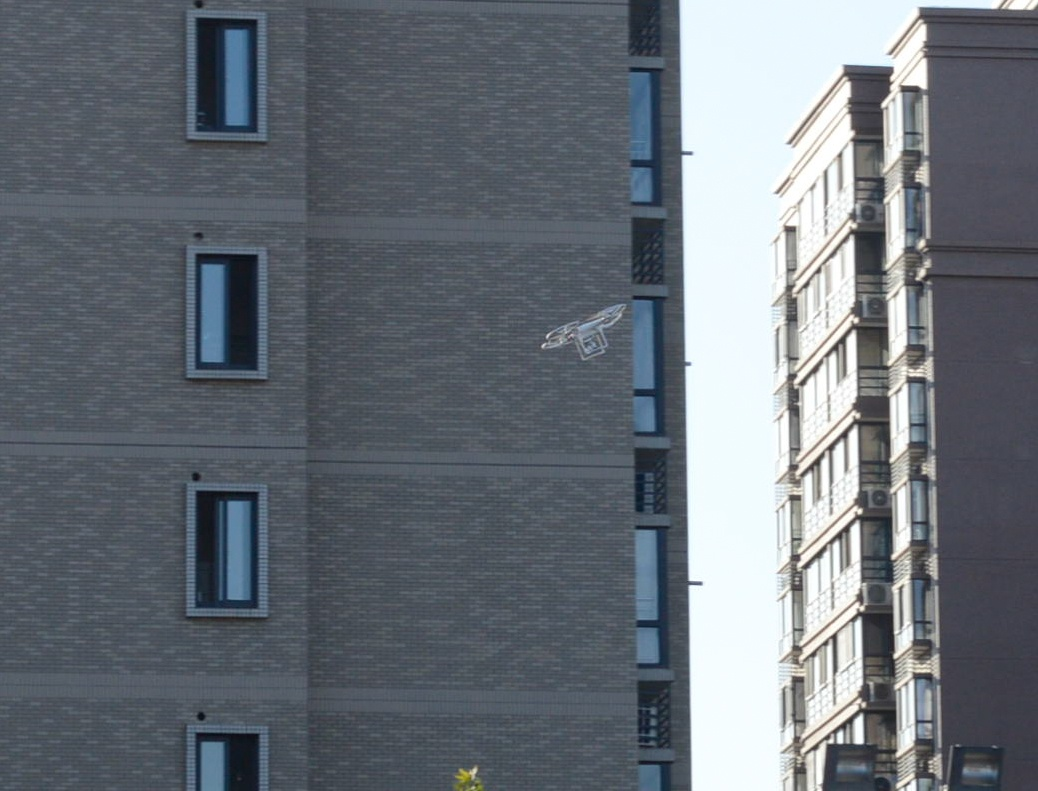DJI: (538, 304, 630, 358)
